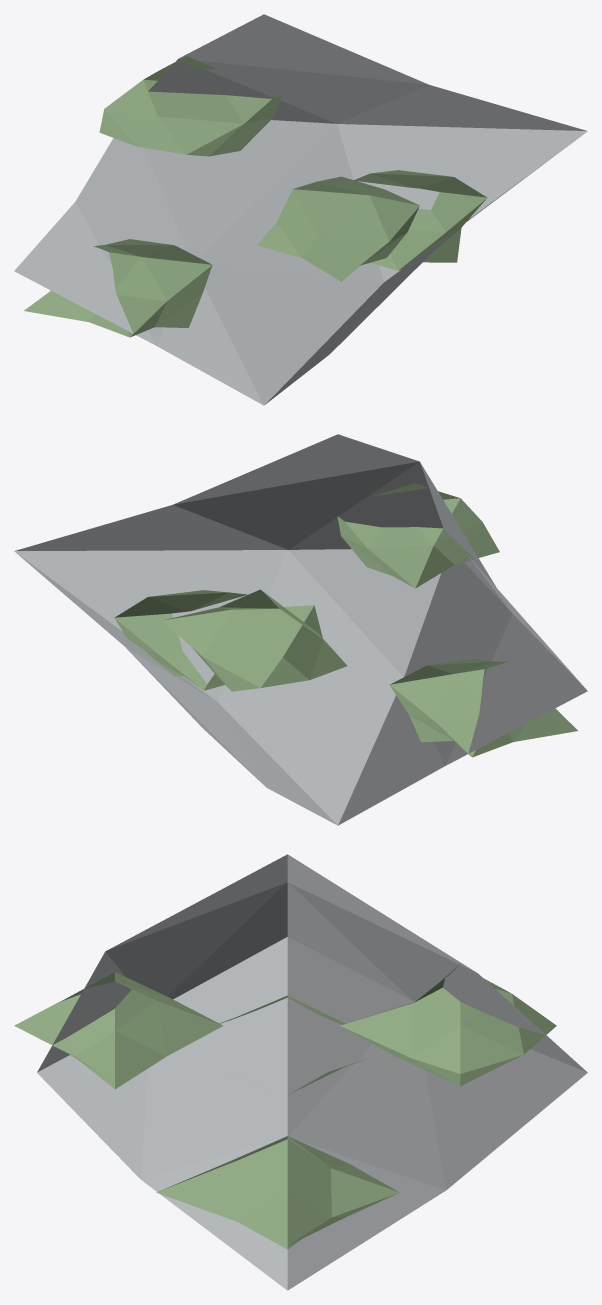
Rendered from moss_rock_v32.glb.
The picture shows the model from 3 angles, top to bottom: view 1: azimuth 30°, elevation 25°; view 2: azimuth 150°, elevation 25°; view 3: azimuth 270°, elevation 25°; orthographic projection. The views are drawn at different scales.
Parts seen in each view (by area): view 1: lod0; view 2: lod0; view 3: lod0.
Part boxes in pixels (x1,y1,x2,y2): lod0: (14, 14, 587, 405); lod0: (14, 434, 587, 825); lod0: (14, 854, 587, 1290).
Size of what is drawn, in the model's own units: 1.18 by 0.7673 by 0.9144.
